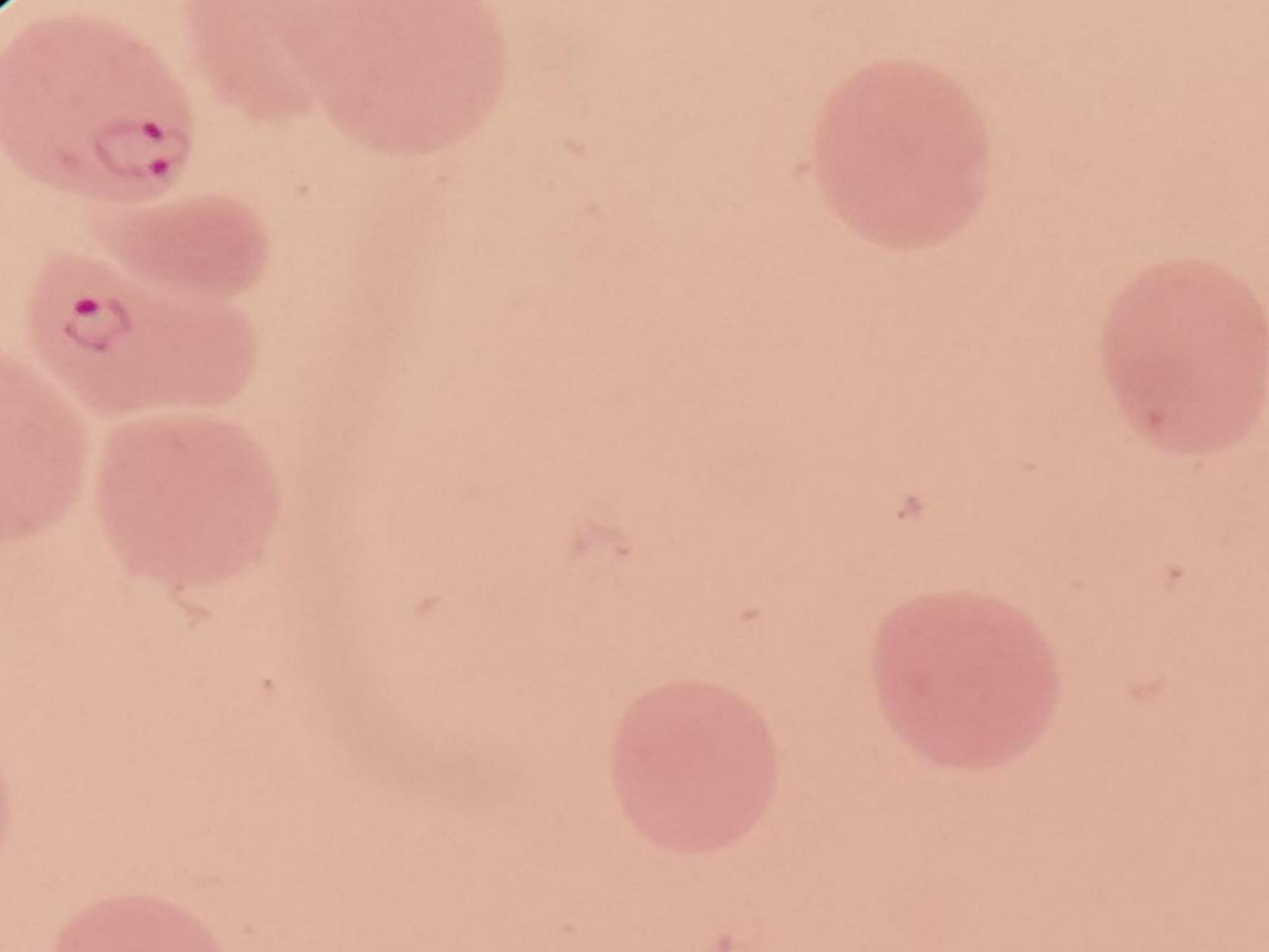Infected: (26, 251, 251, 418), (0, 17, 196, 208)
Uninfected: (273, 0, 502, 152), (866, 592, 1057, 774), (93, 412, 278, 587), (1105, 265, 1269, 456), (820, 61, 985, 249), (616, 682, 771, 850)
